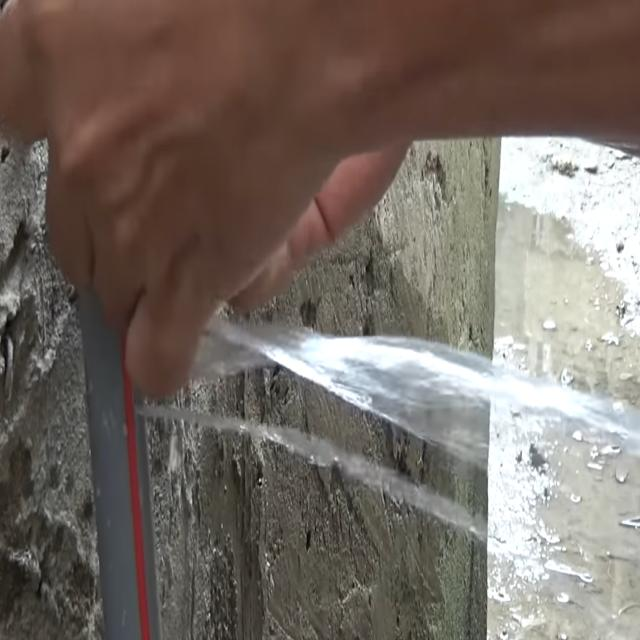leak: (195, 322, 640, 470), (140, 404, 488, 544)
